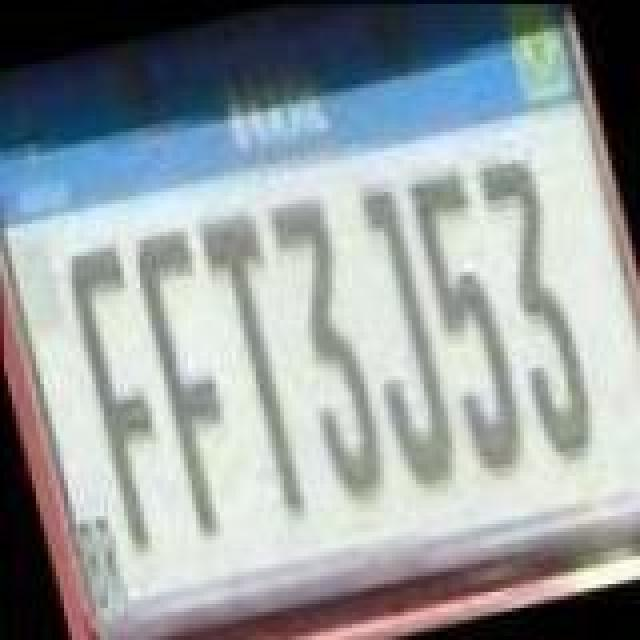3: (260, 184, 396, 508), (468, 146, 604, 470)
5: (396, 154, 532, 478)
F: (124, 218, 264, 546), (54, 226, 190, 554)
J: (326, 172, 466, 500)
T: (190, 200, 326, 528)
